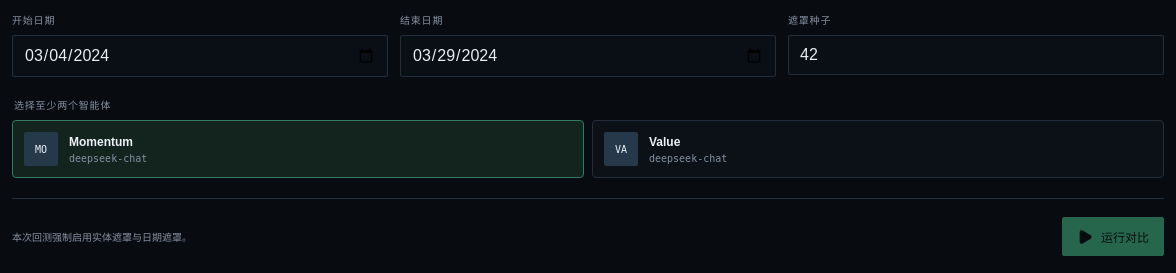
RunForm › requires at least two agents for comparison
expect the button "运行对比" is disabled: met, box top-left (1062, 217), bottom-right (1164, 256)
Click the button "VA Value deepseek-chat". click: (621, 149)
box: top-left (592, 120), bottom-right (1164, 178)
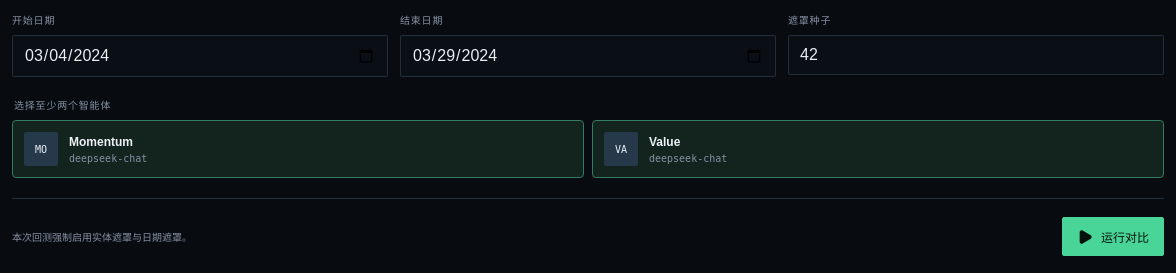
expect the button "运行对比" is enabled: met, box top-left (1062, 217), bottom-right (1164, 256)
